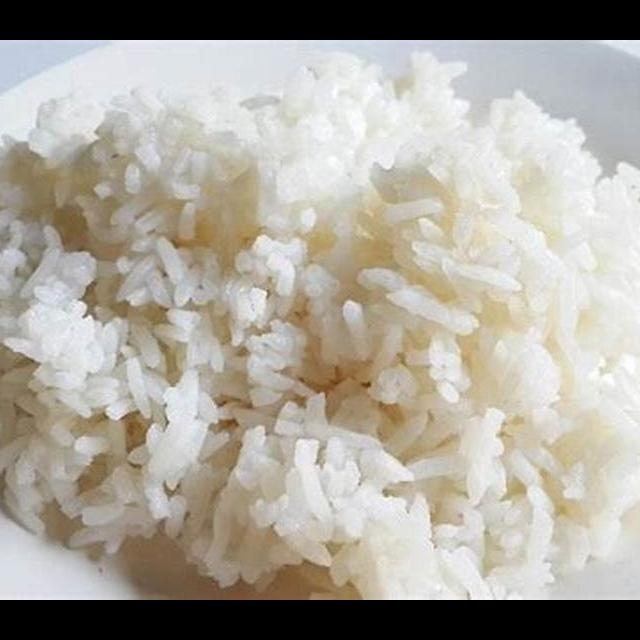food_waste: (53, 137, 605, 511)
